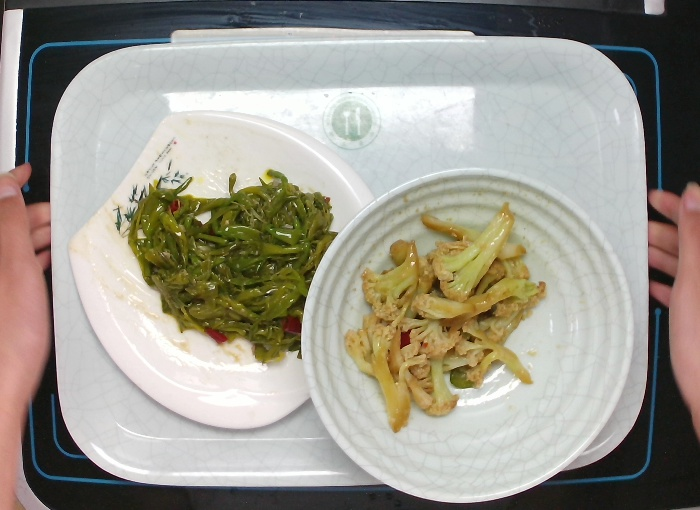JYsf-Da_Tang_Wan: (294, 165, 640, 505)
JYsf-Mian_Pan: (65, 106, 388, 432)
